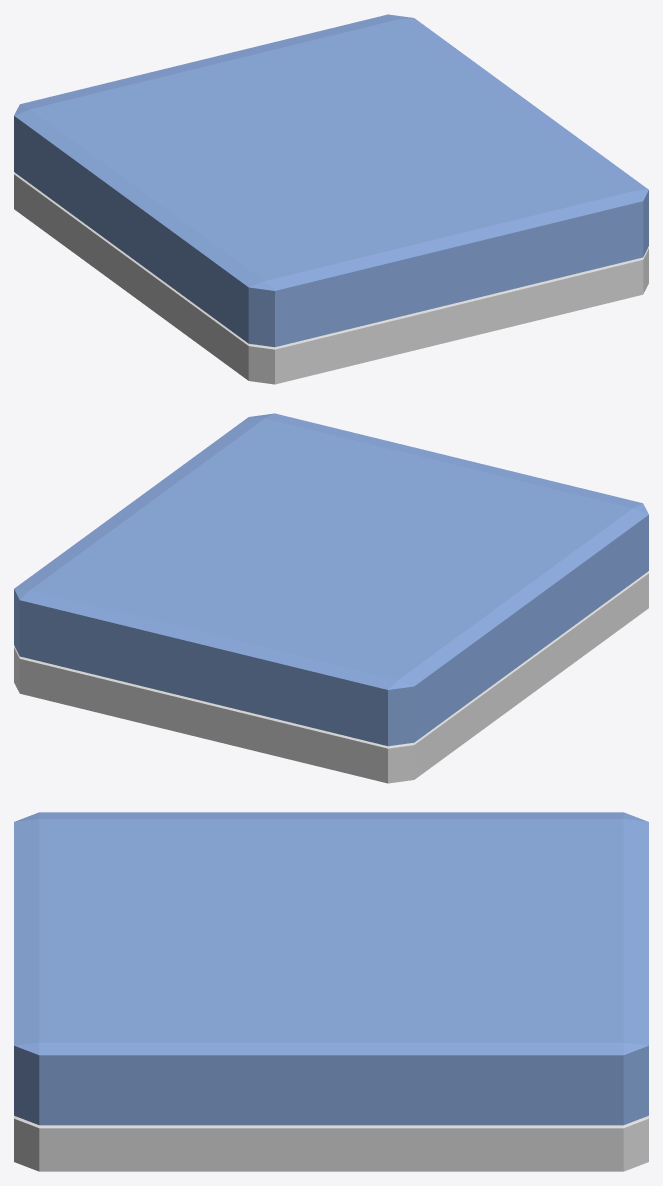
3 renders of one model, top to bottom at view 1: azimuth 30°, elevation 25°; view 2: azimuth 150°, elevation 25°; view 3: azimuth 270°, elevation 25°, orthographic. The views are drawn at different scales.
Parts seen in each view (by area): view 1: Cube.022; view 2: Cube.022; view 3: Cube.022.
Boxes of the visible parts, x1,y1,x2,y2 form: Cube.022: (14, 14, 648, 384); Cube.022: (14, 413, 648, 783); Cube.022: (14, 812, 648, 1171).
Size of the model in its own units: 248 by 58.36 by 274.
